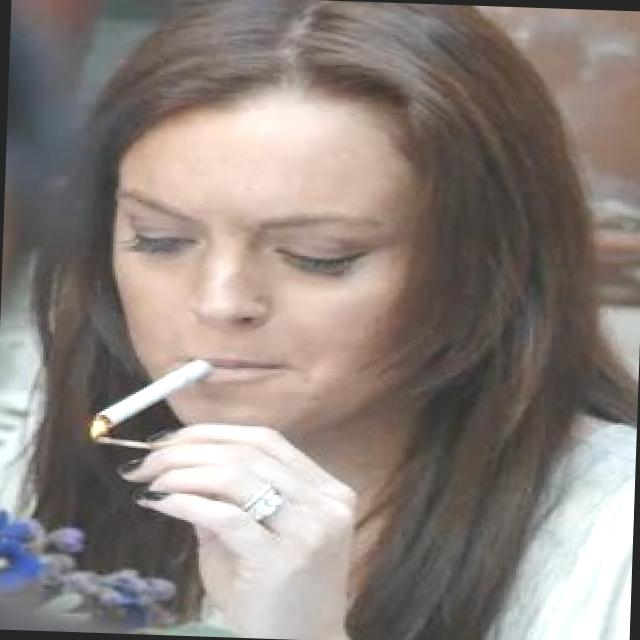cigarette: (82, 352, 220, 436)
